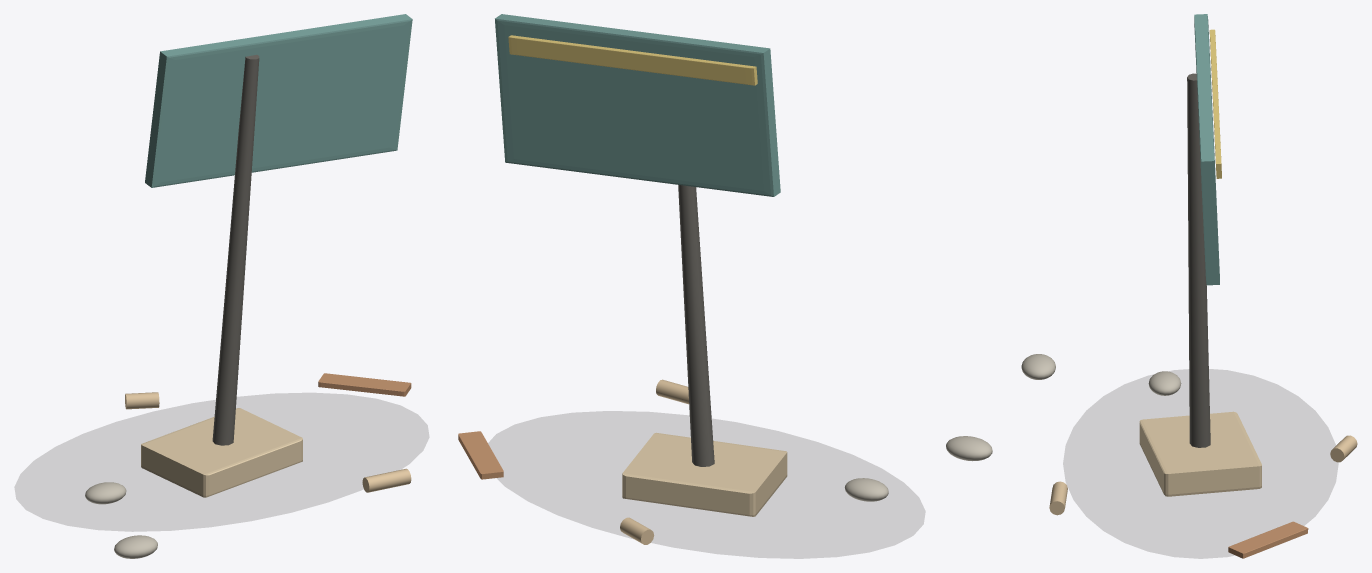
Rendered from highway_sign.glb.
The picture shows the model from 3 angles, left to right: view 1: azimuth 30°, elevation 25°; view 2: azimuth 150°, elevation 25°; view 3: azimuth 270°, elevation 25°; orthographic projection. The views are drawn at different scales.
Visible parts, largest first — view 1: faded_highway_sign_plate, painted_contact_shadow, sand_packed_base, bent_sign_post, loose_scrap_flake_2, ground_pebble_detail_4, discarded_bolt_detail_3, ground_pebble_detail_0, discarded_bolt_detail_1; view 2: faded_highway_sign_plate, painted_contact_shadow, sand_packed_base, bent_sign_post, peeled_warning_stripe_top, loose_scrap_flake_2, ground_pebble_detail_4, ground_pebble_detail_0; view 3: painted_contact_shadow, sand_packed_base, bent_sign_post, faded_highway_sign_plate, loose_scrap_flake_2, peeled_warning_stripe_top, ground_pebble_detail_4, ground_pebble_detail_0, discarded_bolt_detail_3, discarded_bolt_detail_1.
Boxes of the visible parts, x1,y1,x2,y2 form: faded_highway_sign_plate: (145,14,412,187); painted_contact_shadow: (15,393,428,531); sand_packed_base: (141,408,302,497); bent_sign_post: (212,54,259,445); loose_scrap_flake_2: (318,373,411,396); ground_pebble_detail_4: (114,535,157,558); discarded_bolt_detail_3: (362,468,411,492); ground_pebble_detail_0: (85,482,126,504); discarded_bolt_detail_1: (125,392,159,409); faded_highway_sign_plate: (495,14,780,196); painted_contact_shadow: (488,411,924,558); sand_packed_base: (622,432,787,516); bent_sign_post: (678,185,714,466); peeled_warning_stripe_top: (508,35,757,85); loose_scrap_flake_2: (458,431,503,479); ground_pebble_detail_4: (946,436,992,461); ground_pebble_detail_0: (844,478,888,501); painted_contact_shadow: (1063,369,1337,558); sand_packed_base: (1139,411,1261,496); bent_sign_post: (1187,73,1210,447); faded_highway_sign_plate: (1194,14,1219,285); loose_scrap_flake_2: (1228,521,1308,558); peeled_warning_stripe_top: (1209,29,1221,178); ground_pebble_detail_4: (1021,354,1055,379); ground_pebble_detail_0: (1148,371,1181,395); discarded_bolt_detail_3: (1049,481,1067,515); discarded_bolt_detail_1: (1330,435,1357,462).
Bounding box in the file's own units: 1.49 × 1.49 × 1.07.
